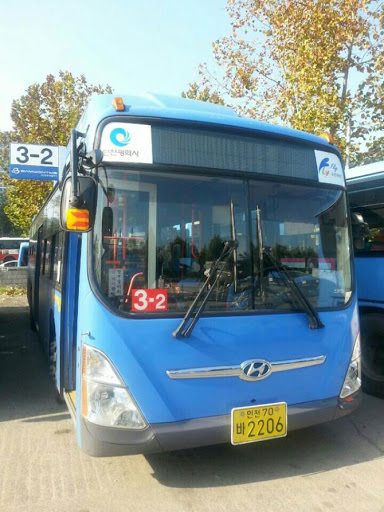bnum: (132, 289, 167, 312)
